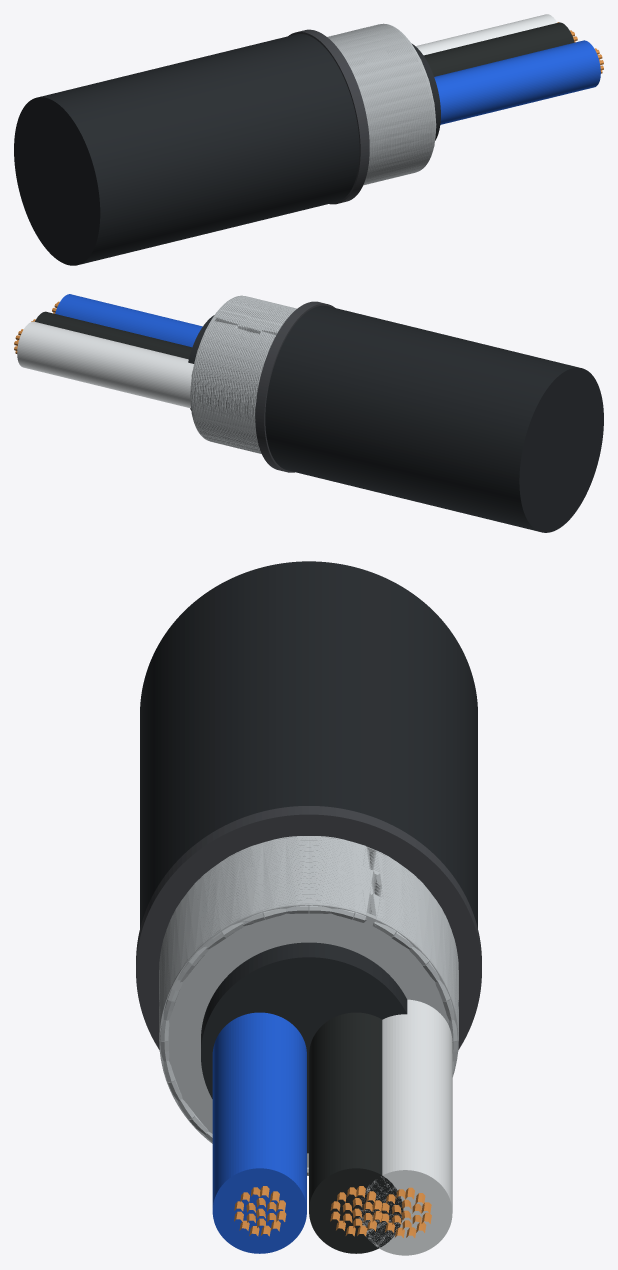
The model's file is premium_power_cable_v3_cutaway.glb.
3 renders of one model, top to bottom at view 1: azimuth 30°, elevation 25°; view 2: azimuth 150°, elevation 25°; view 3: azimuth 270°, elevation 25°, orthographic. The views are drawn at different scales.
Parts seen in each view (by area): view 1: 01_Outer_Sheath, 06_Core_Blue, 07_Core_Black, 01A_Sheath_Cut_Rim, 08_Core_White, 04_Inner_Sheath, 05_Armour_1_00, 05_Armour_1_03, 05_Armour_0_04, 05_Armour_0_10, 05_Armour_0_18, 05_Armour_1_08 (+35 smaller); view 2: 01_Outer_Sheath, 08_Core_White, 06_Core_Blue, 07_Core_Black, 01A_Sheath_Cut_Rim, 05_Armour_0_18, 05_Armour_0_03, 05_Armour_0_01, 05_Armour_0_16, 05_Armour_1_17, 05_Armour_0_00, 05_Armour_0_17 (+34 smaller); view 3: 01_Outer_Sheath, 06_Core_Blue, 01A_Sheath_Cut_Rim, 07_Core_Black, 08_Core_White, 05A_Armour_Retaining_Ring_1.57, 04_Inner_Sheath, 05_Armour_1_03, 05_Armour_0_17, 05_Armour_1_04, 05_Armour_0_18, 05_Armour_0_16 (+31 smaller).
Part boxes in pixels (x1=…): 01_Outer_Sheath: x1=14, y1=34, x2=359, y2=265; 06_Core_Blue: x1=434, y1=40, x2=600, y2=124; 07_Core_Black: x1=423, y1=22, x2=574, y2=76; 01A_Sheath_Cut_Rim: x1=288, y1=29, x2=369, y2=204; 08_Core_White: x1=415, y1=14, x2=557, y2=55; 04_Inner_Sheath: x1=411, y1=43, x2=440, y2=140; 05_Armour_1_00: x1=342, y1=25, x2=419, y2=184; 05_Armour_1_03: x1=347, y1=24, x2=424, y2=183; 05_Armour_0_04: x1=329, y1=28, x2=429, y2=180; 05_Armour_0_10: x1=330, y1=30, x2=419, y2=183; 05_Armour_0_18: x1=343, y1=25, x2=428, y2=182; 05_Armour_1_08: x1=332, y1=30, x2=432, y2=181; 01_Outer_Sheath: x1=265, y1=305, x2=603, y2=532; 08_Core_White: x1=17, y1=321, x2=193, y2=408; 06_Core_Blue: x1=55, y1=294, x2=202, y2=347; 07_Core_Black: x1=35, y1=311, x2=192, y2=359; 01A_Sheath_Cut_Rim: x1=255, y1=301, x2=334, y2=472; 05_Armour_0_18: x1=203, y1=296, x2=279, y2=452; 05_Armour_0_03: x1=211, y1=298, x2=287, y2=450; 05_Armour_0_01: x1=208, y1=297, x2=285, y2=451; 05_Armour_0_16: x1=200, y1=296, x2=276, y2=452; 05_Armour_1_17: x1=195, y1=299, x2=290, y2=448; 05_Armour_0_00: x1=206, y1=297, x2=282, y2=453; 05_Armour_0_17: x1=201, y1=296, x2=278, y2=452; 01_Outer_Sheath: x1=140, y1=561, x2=477, y2=927; 06_Core_Blue: x1=212, y1=1012, x2=306, y2=1253; 01A_Sheath_Cut_Rim: x1=136, y1=806, x2=481, y2=1049; 07_Core_Black: x1=309, y1=1012, x2=403, y2=1253; 08_Core_White: x1=359, y1=999, x2=452, y2=1255; 05A_Armour_Retaining_Ring_1.57: x1=159, y1=903, x2=458, y2=1175; 04_Inner_Sheath: x1=201, y1=942, x2=407, y2=1153; 05_Armour_1_03: x1=159, y1=837, x2=458, y2=1020; 05_Armour_0_17: x1=159, y1=837, x2=458, y2=1020; 05_Armour_1_04: x1=159, y1=839, x2=458, y2=1021; 05_Armour_0_18: x1=159, y1=836, x2=458, y2=1018; 05_Armour_0_16: x1=159, y1=839, x2=458, y2=1021.
Size of the model in its own units: 12.15 by 3.52 by 3.52.
